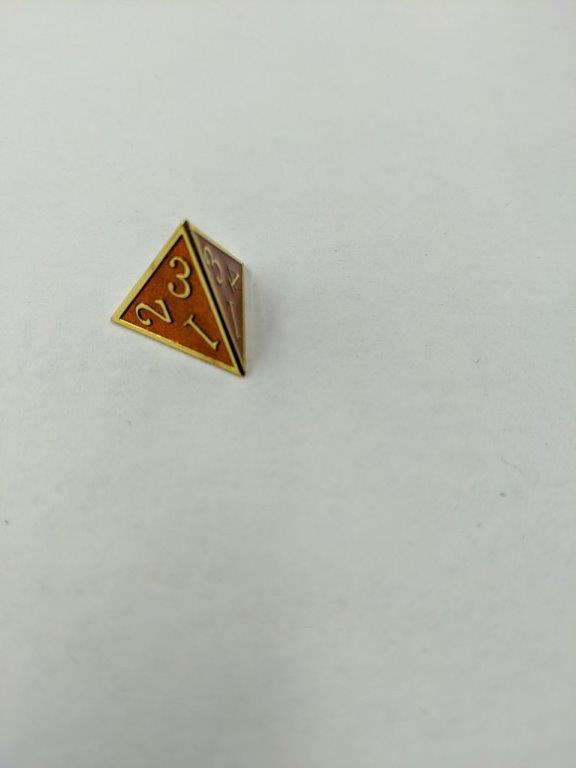d4-3: (106, 218, 253, 383)
